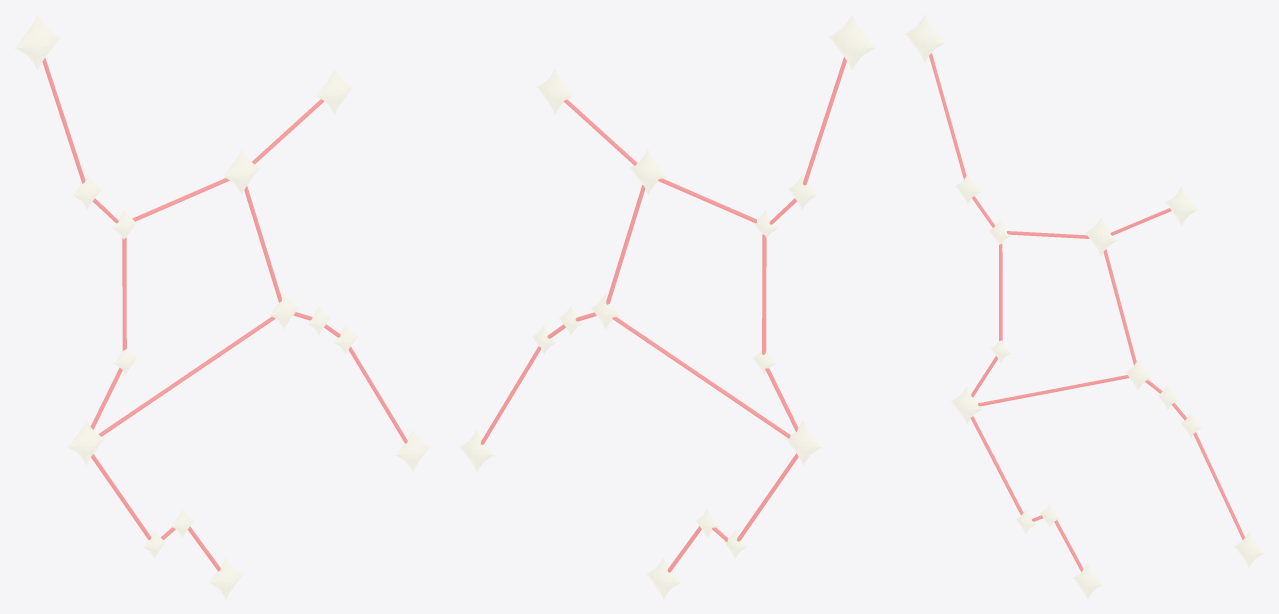
File: sozvezdiya-deva.glb
The picture shows the model from 3 angles, left to right: view 1: azimuth 30°, elevation 25°; view 2: azimuth 150°, elevation 25°; view 3: azimuth 330°, elevation 25°; orthographic projection. The views are drawn at different scales.
Visible parts, largest first — view 1: Cylinder, Sphere.008, Sphere.001, Sphere.009, Sphere.004, Sphere.011, Sphere.012; view 2: Cylinder, Sphere.008, Sphere.001, Sphere.009, Sphere.004, Sphere.011, Sphere.012; view 3: Cylinder, Sphere.008, Sphere.001, Sphere.009, Sphere.004, Sphere.011, Sphere.012.
Boxes of the visible parts, left/top/right/bottom form: Cylinder: left=42, top=58, right=407, bottom=571; Sphere.008: left=14, top=14, right=60, bottom=70; Sphere.001: left=316, top=69, right=353, bottom=114; Sphere.009: left=223, top=149, right=260, bottom=194; Sphere.004: left=67, top=420, right=105, bottom=465; Sphere.011: left=208, top=557, right=243, bottom=599; Sphere.012: left=395, top=430, right=430, bottom=471; Cylinder: left=480, top=57, right=846, bottom=572; Sphere.008: left=829, top=14, right=875, bottom=70; Sphere.001: left=536, top=69, right=573, bottom=114; Sphere.009: left=629, top=149, right=666, bottom=194; Sphere.004: left=784, top=420, right=821, bottom=465; Sphere.011: left=646, top=557, right=681, bottom=599; Sphere.012: left=459, top=430, right=494, bottom=471; Cylinder: left=929, top=53, right=1244, bottom=571; Sphere.008: left=905, top=14, right=944, bottom=62; Sphere.001: left=1165, top=186, right=1197, bottom=225; Sphere.009: left=1085, top=217, right=1117, bottom=256; Sphere.004: left=950, top=386, right=982, bottom=424; Sphere.011: left=1072, top=563, right=1102, bottom=599; Sphere.012: left=1234, top=531, right=1263, bottom=567.
Bounding box in the file's own units: 0.1323 × 0.1918 × 0.00671.
